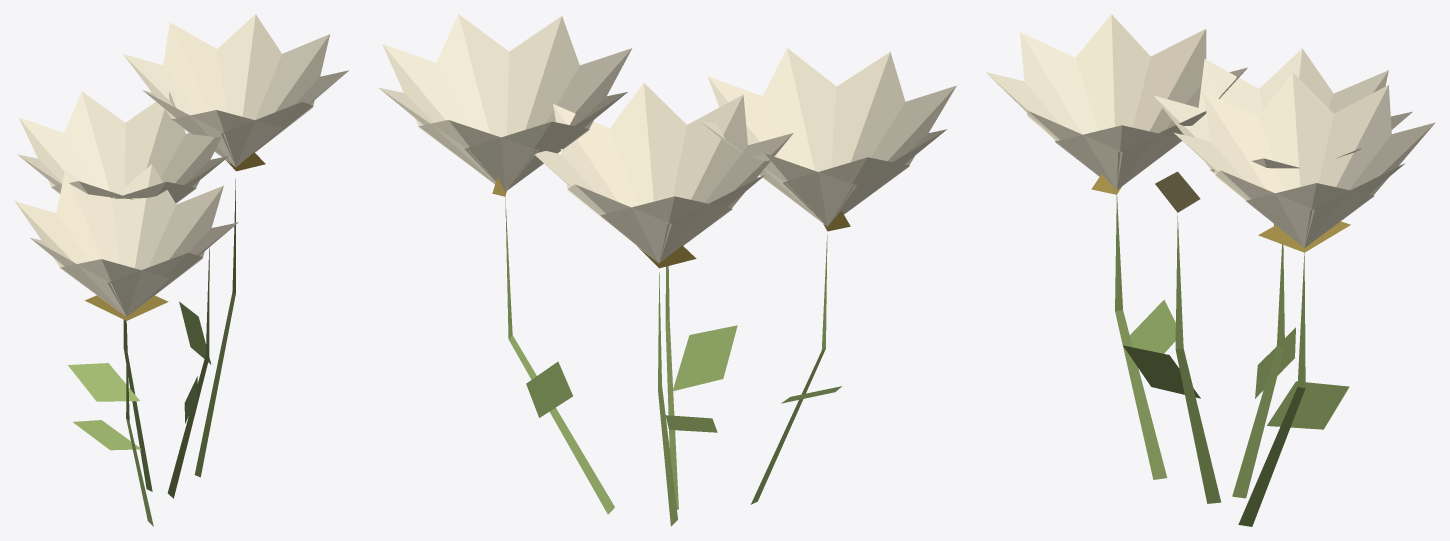
File: AlpineFlower.obj
3 views of the same model, side by side, from view 1: azimuth 30°, elevation 25°; view 2: azimuth 150°, elevation 25°; view 3: azimuth 270°, elevation 25° (orthographic). The views are drawn at different scales.
Visible parts, largest first — view 1: AlpineFlower; view 2: AlpineFlower; view 3: AlpineFlower.
Part boxes in pixels (<box>): AlpineFlower: <box>14,14,348,526</box>; AlpineFlower: <box>378,14,956,526</box>; AlpineFlower: <box>986,14,1434,526</box>.
Bounding box in the file's own units: 0.6194 × 0.5769 × 0.541.
